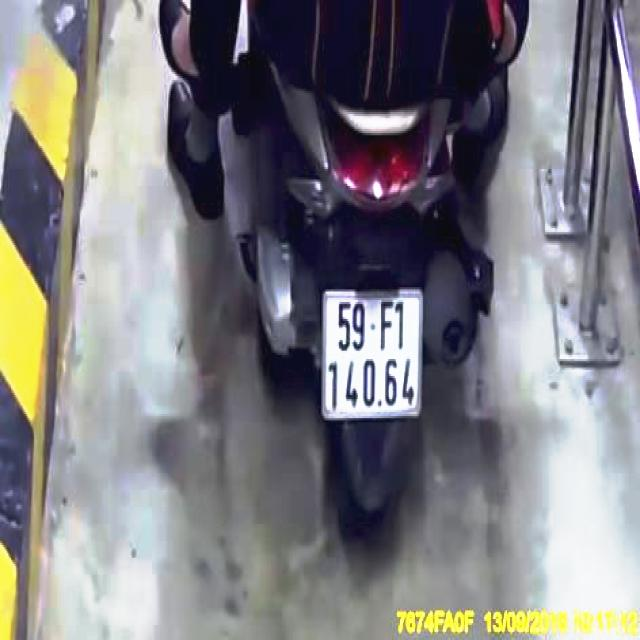license_plate: (321, 294, 424, 417)
